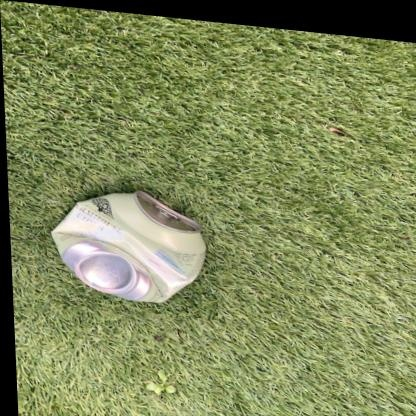trash: (52, 191, 205, 302)
